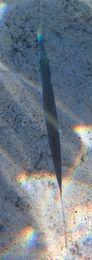Fistularia commersonii: (15, 20, 83, 207)
